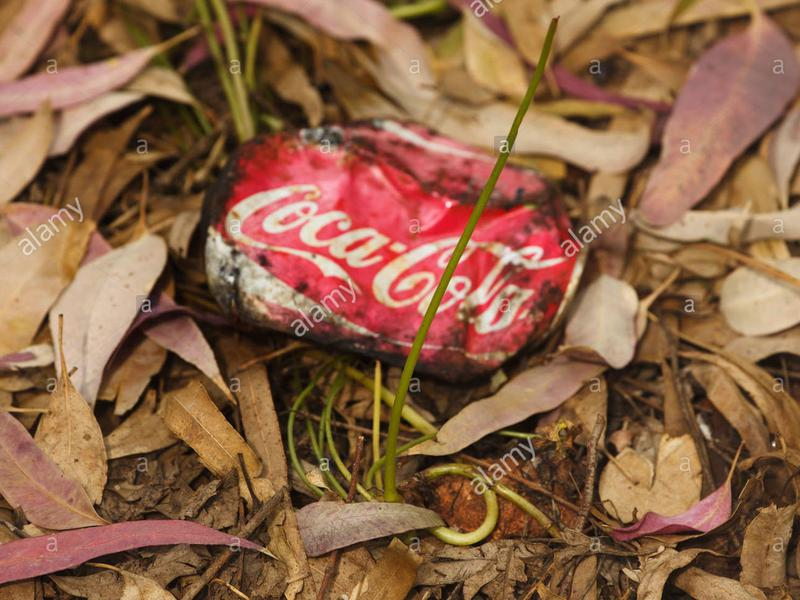can: (188, 109, 604, 393)
leaf: (630, 1, 798, 238), (390, 356, 613, 466), (42, 222, 173, 409), (1, 16, 200, 117), (1, 516, 283, 587), (28, 310, 110, 509), (1, 411, 114, 535), (600, 465, 755, 544), (674, 354, 774, 464), (293, 496, 453, 559), (597, 428, 707, 518), (557, 274, 641, 367), (716, 254, 800, 340)
